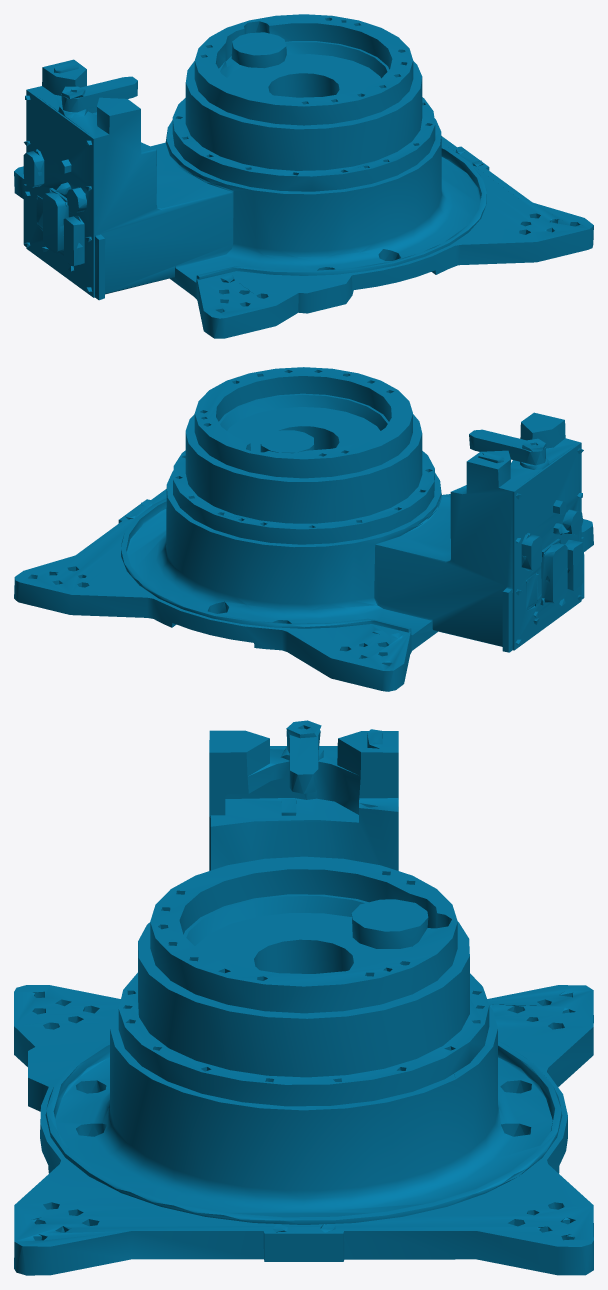
The picture shows the model from 3 angles, top to bottom: view 1: azimuth 30°, elevation 25°; view 2: azimuth 150°, elevation 25°; view 3: azimuth 270°, elevation 25°; orthographic projection. The views are drawn at different scales.
Parts seen in each view (by area): view 1: es165rd-a00_lk0; view 2: es165rd-a00_lk0; view 3: es165rd-a00_lk0.
Part boxes in pixels (x1,y1,x2,y2): es165rd-a00_lk0: (14, 14, 593, 338); es165rd-a00_lk0: (14, 367, 593, 691); es165rd-a00_lk0: (14, 720, 593, 1275).
Bounding box in the file's own units: 0.9227 × 0.7356 × 0.3678.
